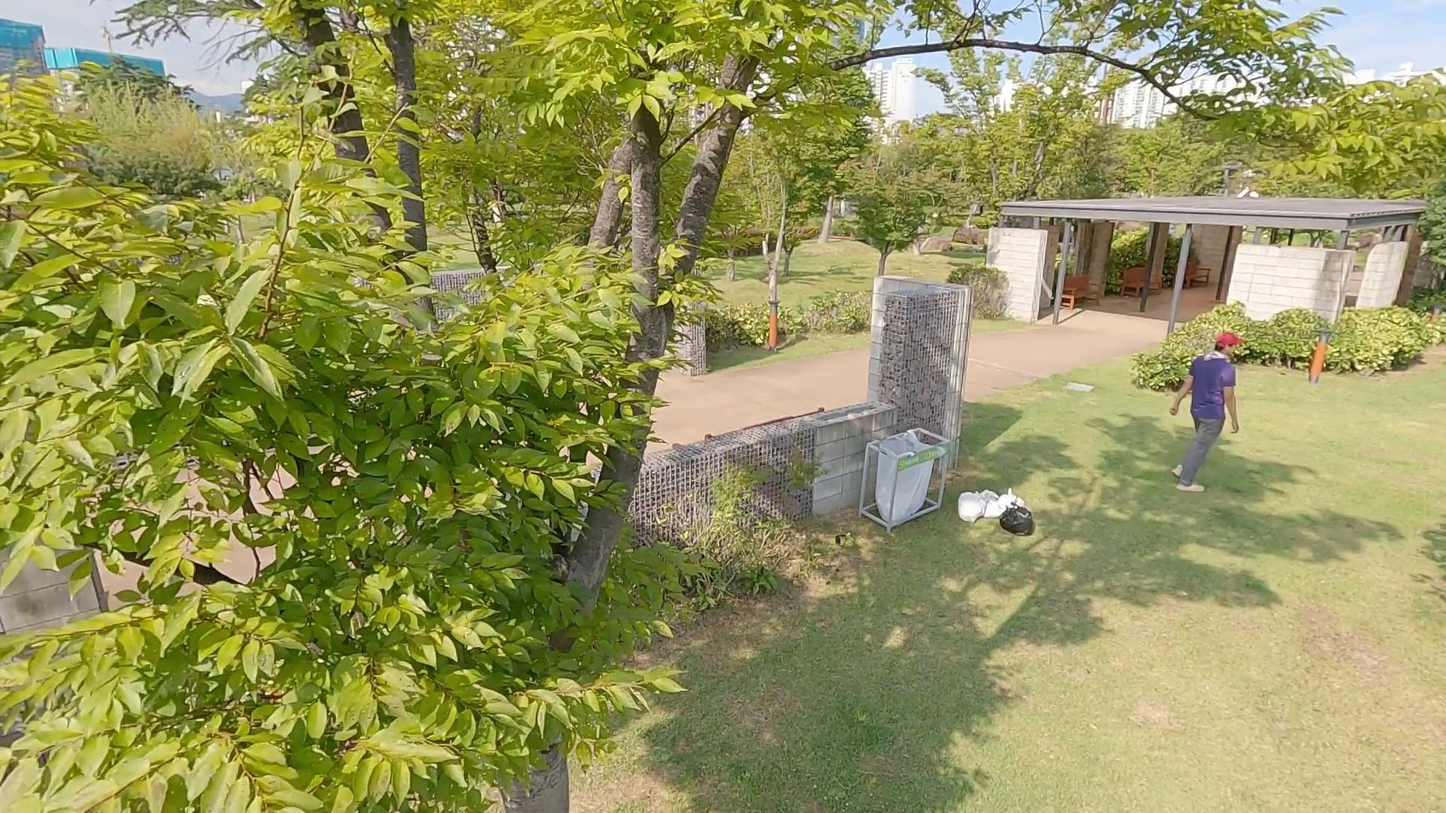person: (1172, 328, 1245, 494)
trash: (998, 495, 1035, 538), (956, 489, 987, 525), (976, 487, 1006, 521), (993, 487, 1023, 513)
